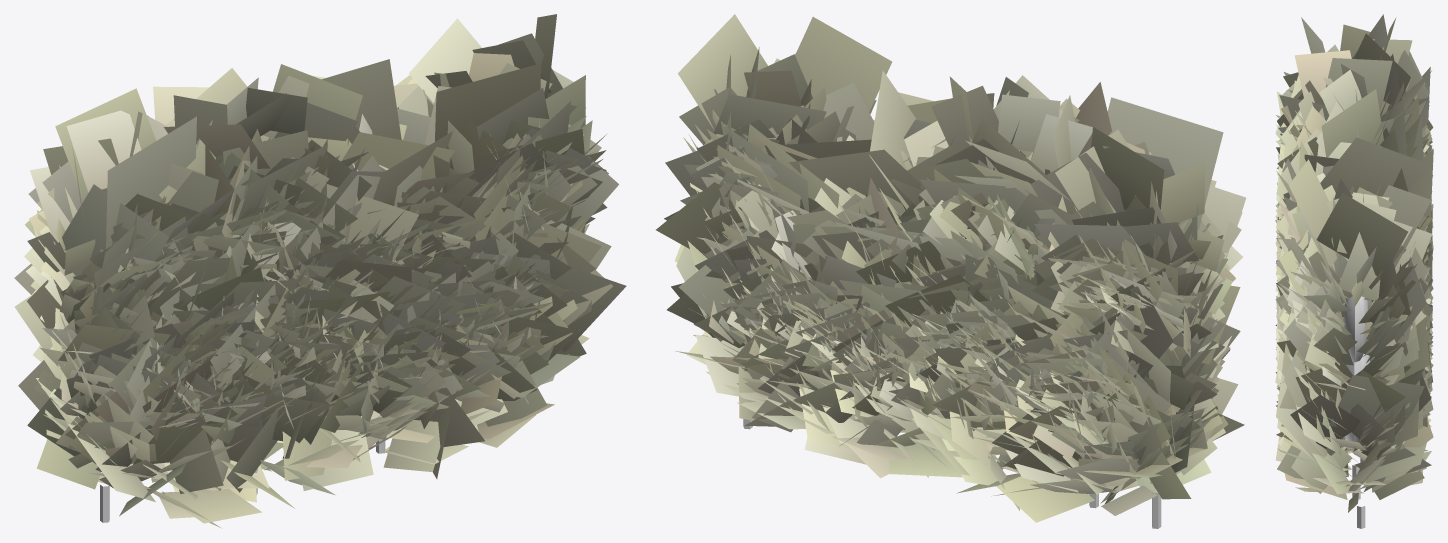
File: hedge_long.glb
The picture shows the model from 3 angles, left to right: view 1: azimuth 30°, elevation 25°; view 2: azimuth 150°, elevation 25°; view 3: azimuth 270°, elevation 25°; orthographic projection. The views are drawn at different scales.
Visible parts, largest first — view 1: hedge_long; view 2: hedge_long; view 3: hedge_long.
Boxes of the visible parts, left/top/right/bottom form: hedge_long: left=14, top=14, right=626, bottom=528; hedge_long: left=656, top=14, right=1246, bottom=528; hedge_long: left=1275, top=14, right=1433, bottom=528.
Size of the model in its own units: 4.12 by 3.05 by 1.27.
